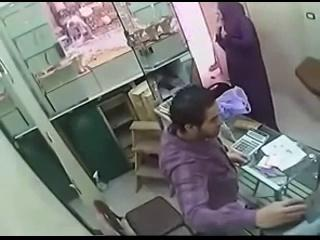Normal: (158, 84, 310, 234), (94, 196, 194, 236), (230, 128, 270, 158)
